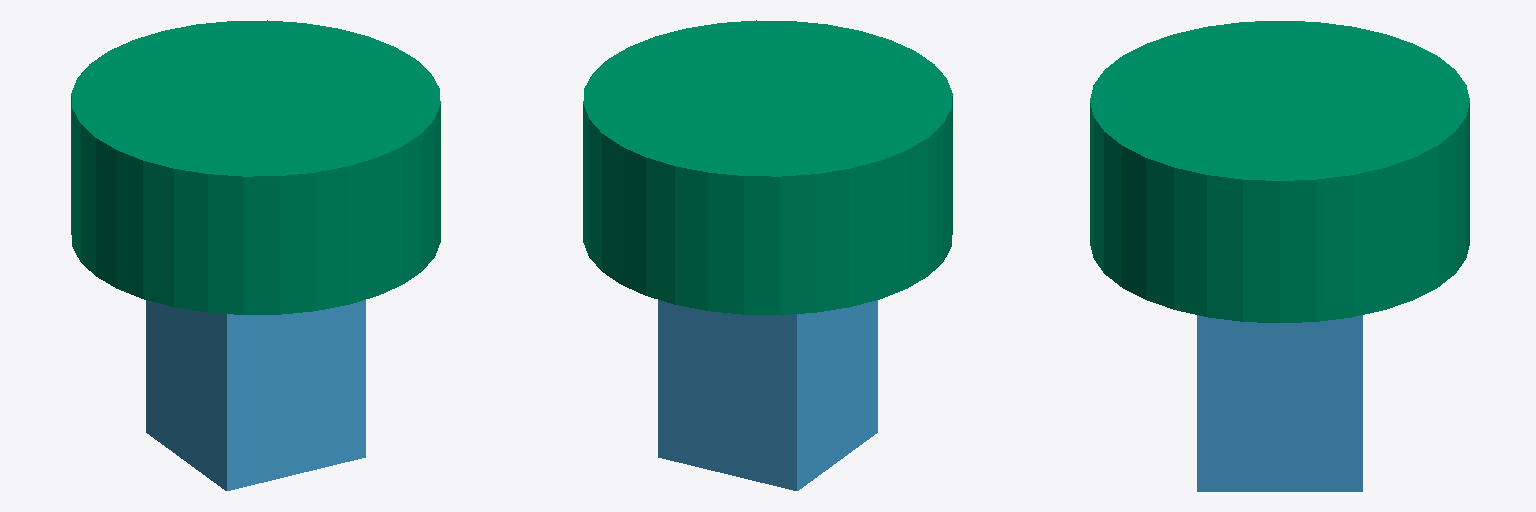
URDF robot description (candidate-1):
<?xml version="1.0"?>
<!-- 由 freecad-ai-parts 生成（ADR-0035）：长度单位 m，角度单位 rad；未写 inertial（无整件惯性数据） -->
<robot name="candidate-1">
  <link name="base"/>
  <!-- motor: servo_motor.yaskawa-electric-corporation.sgm7j-04a-6（Yaskawa Electric Corporation SGM7J-04A（轴端代码 6））；质量 1.1 kg -->
  <link name="motor">
    <visual><origin xyz="0.0 0.0 -0.04275" rpy="0.0 0.0 0.0"/><geometry><box size="0.06 0.06 0.0855"/></geometry></visual>
    <collision><origin xyz="0.0 0.0 -0.04275" rpy="0.0 0.0 0.0"/><geometry><box size="0.06 0.06 0.0855"/></geometry></collision>
    <visual><origin xyz="0.0 0.0 0.015" rpy="0.0 0.0 0.0"/><geometry><cylinder radius="0.007" length="0.03"/></geometry></visual>
    <collision><origin xyz="0.0 0.0 0.015" rpy="0.0 0.0 0.0"/><geometry><cylinder radius="0.007" length="0.03"/></geometry></collision>
  </link>
  <joint name="motor_mount" type="fixed"><parent link="base"/><child link="motor"/><origin xyz="0.0 0.0 0.0" rpy="0.0 0.0 0.0"/></joint>
  <!-- reducer: reducer.harmonic-drive-llc.csf-32-100-2uh（Harmonic Drive LLC CSF-32-100-2UH）；质量 3.2 kg -->
  <link name="reducer">
    <visual><origin xyz="0.0 0.0 0.0285" rpy="0.0 0.0 0.0"/><geometry><cylinder radius="0.069" length="0.057"/></geometry></visual>
    <collision><origin xyz="0.0 0.0 0.0285" rpy="0.0 0.0 0.0"/><geometry><cylinder radius="0.069" length="0.057"/></geometry></collision>
  </link>
  <joint name="reducer_mount" type="fixed"><parent link="base"/><child link="reducer"/><origin xyz="0.0 0.0 0.0" rpy="0.0 0.0 0.0"/></joint>
  <link name="output"/>
  <joint name="output_joint" type="continuous"><parent link="reducer"/><child link="output"/><origin xyz="0.0 0.0 0.057" rpy="0.0 0.0 0.0"/><axis xyz="0 0 1"/></joint>
</robot>

--- Render facts (derived) ---
Views: 3 orthographic renders of the robot side by side, from view 1: azimuth 30°, elevation 25°; view 2: azimuth 150°, elevation 25°; view 3: azimuth 270°, elevation 25°.
Robot: candidate-1 — 4 links, 3 joints (1 continuous, 2 fixed); root link base; default pose: every joint at zero.
Visible links, largest first — view 1: reducer, motor; view 2: reducer, motor; view 3: reducer, motor.
Boxes of the visible links, x1=… form: reducer: x1=71, y1=20, x2=440, y2=314; motor: x1=146, y1=300, x2=365, y2=490; reducer: x1=583, y1=20, x2=952, y2=314; motor: x1=658, y1=300, x2=877, y2=490; reducer: x1=1090, y1=21, x2=1469, y2=322; motor: x1=1197, y1=315, x2=1362, y2=491.
Size in the robot's own frame: 0.138 by 0.138 by 0.1425 metres.
Geometry: primitives only (box / cylinder / sphere), no mesh files.
